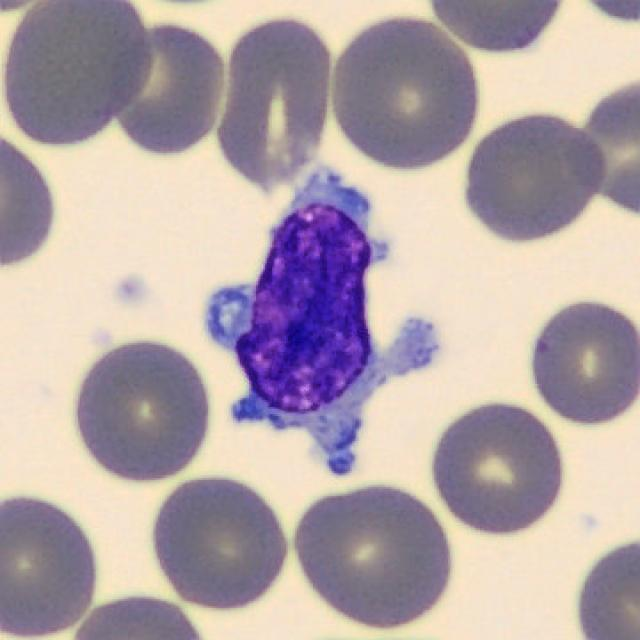Linfocito atipico: (206, 167, 439, 476)
